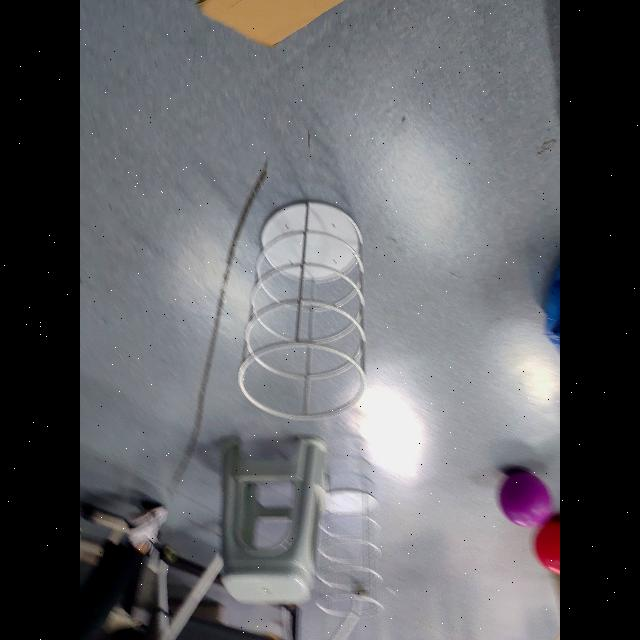S: (236, 198, 370, 428)
